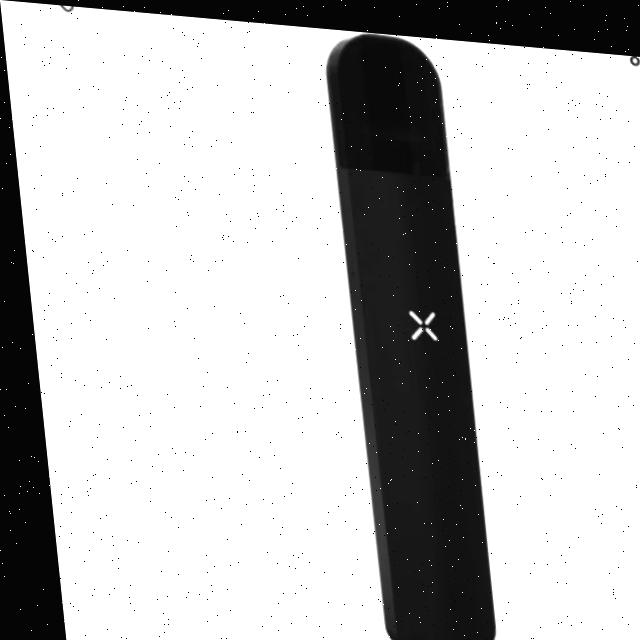vape: (325, 27, 483, 640)
